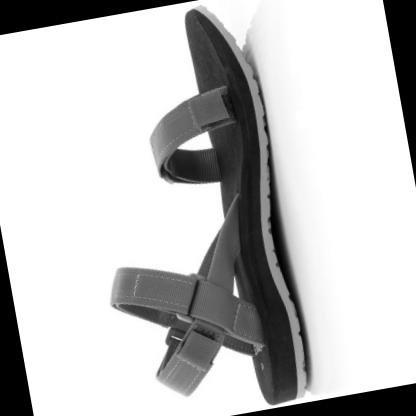ankle: (147, 277, 156, 289)
heel: (277, 388, 292, 400)
pinky: (192, 50, 200, 61)
right_foot: (97, 1, 313, 416)
toe: (197, 17, 211, 30)
